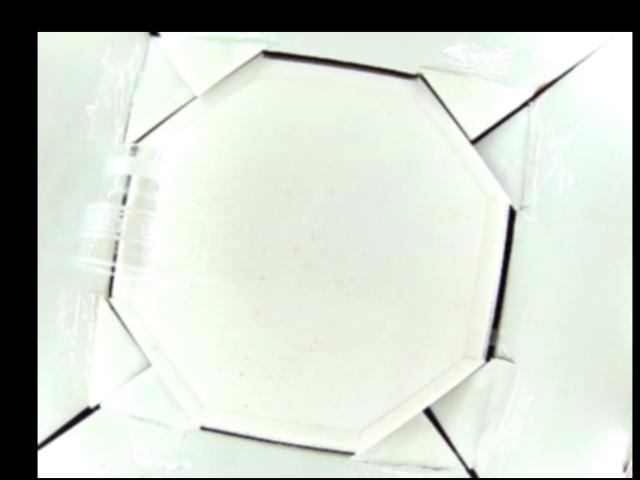Cup: (73, 143, 181, 288)
